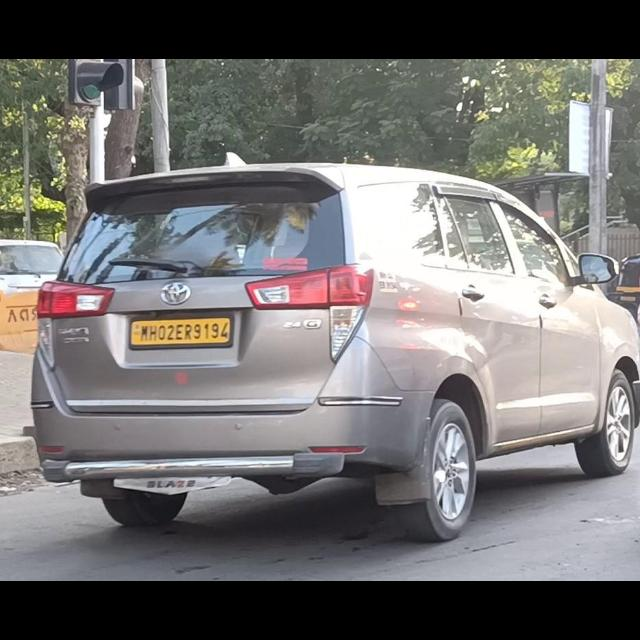number-plate: (123, 317, 239, 351)
vehicles: (22, 162, 640, 543)
